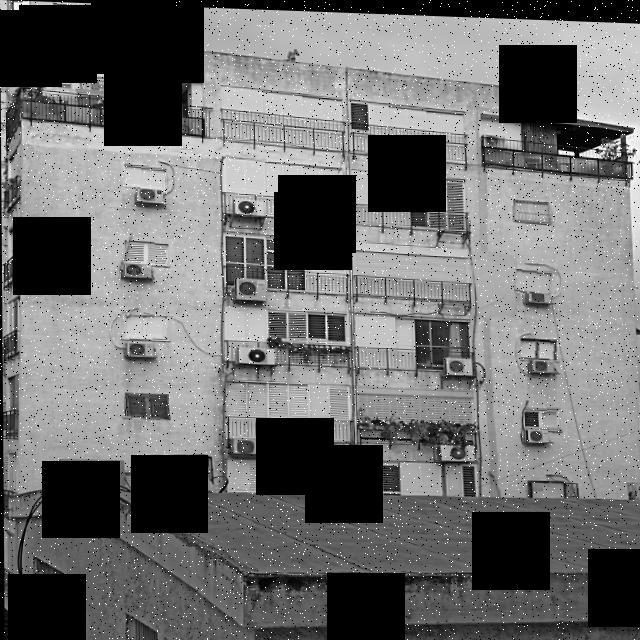Window: (120, 314, 173, 341), (120, 237, 172, 264), (124, 391, 170, 419), (514, 263, 556, 290), (524, 399, 564, 426), (124, 164, 168, 188), (516, 334, 560, 356), (510, 195, 551, 217), (8, 70, 32, 88), (6, 34, 32, 50), (8, 0, 34, 15), (52, 73, 74, 89), (50, 2, 75, 16), (54, 37, 72, 54)
